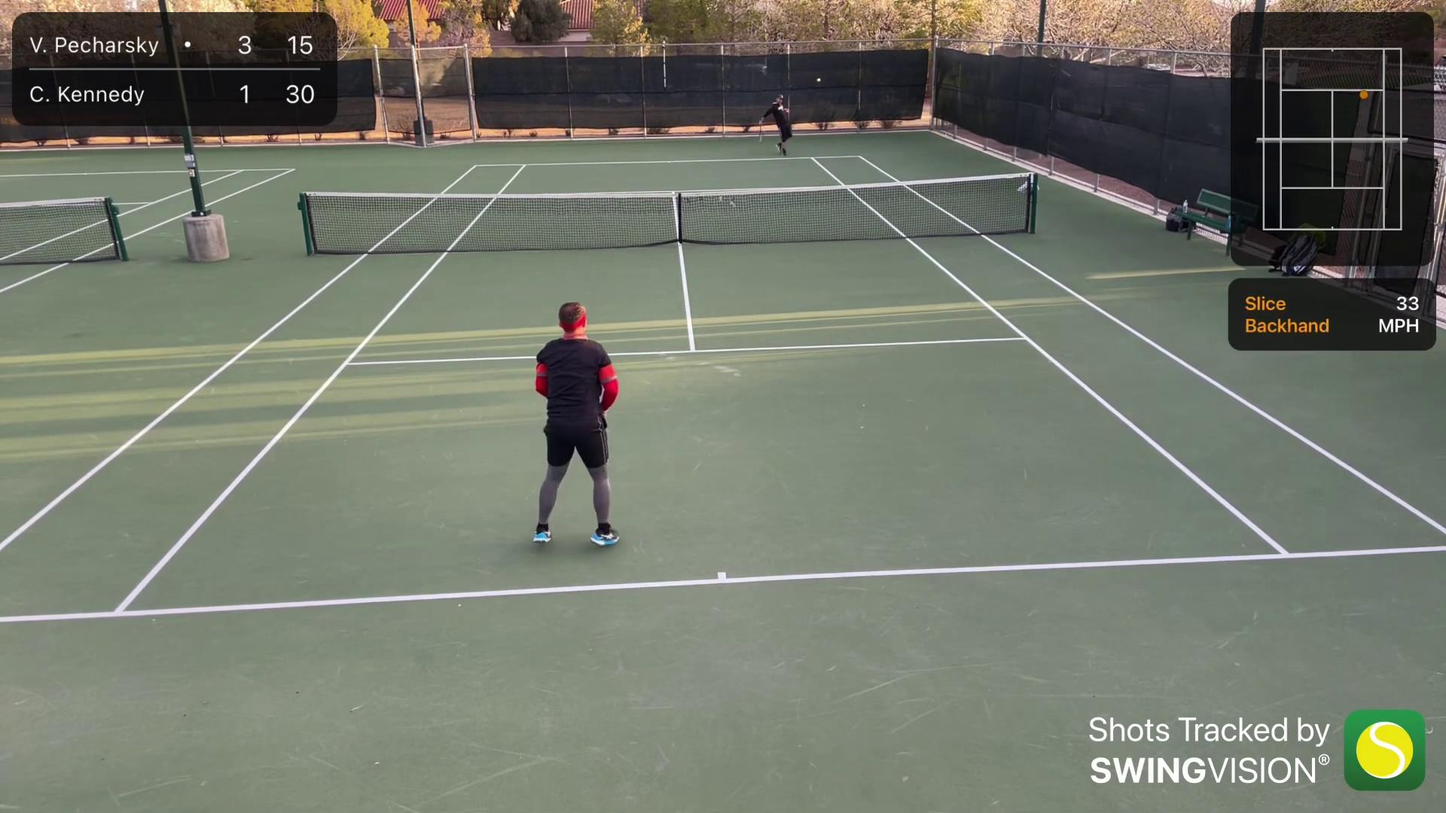ball: (816, 76, 822, 83)
